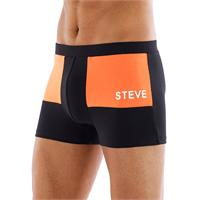mutande: (35, 39, 165, 148)
